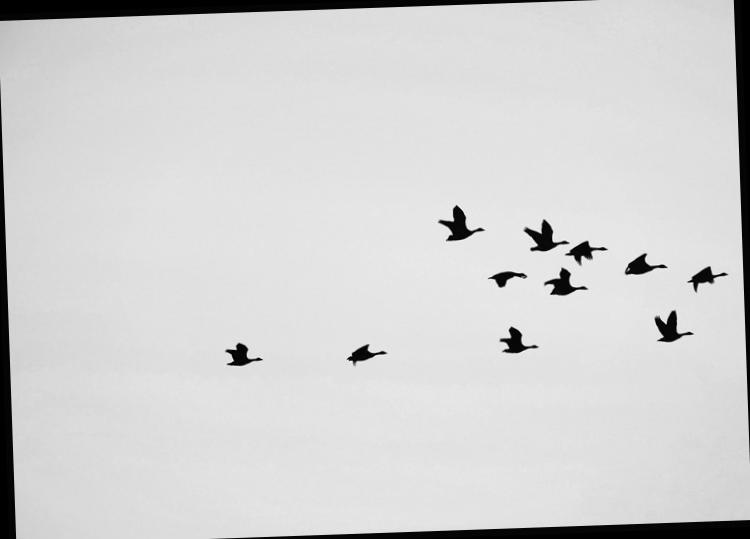bird: (209, 331, 274, 380), (436, 197, 498, 245), (643, 303, 698, 352), (486, 317, 545, 360), (512, 209, 570, 252), (337, 332, 397, 372), (616, 244, 673, 280), (538, 262, 592, 298), (678, 258, 730, 294), (563, 234, 609, 266), (481, 264, 532, 290)
